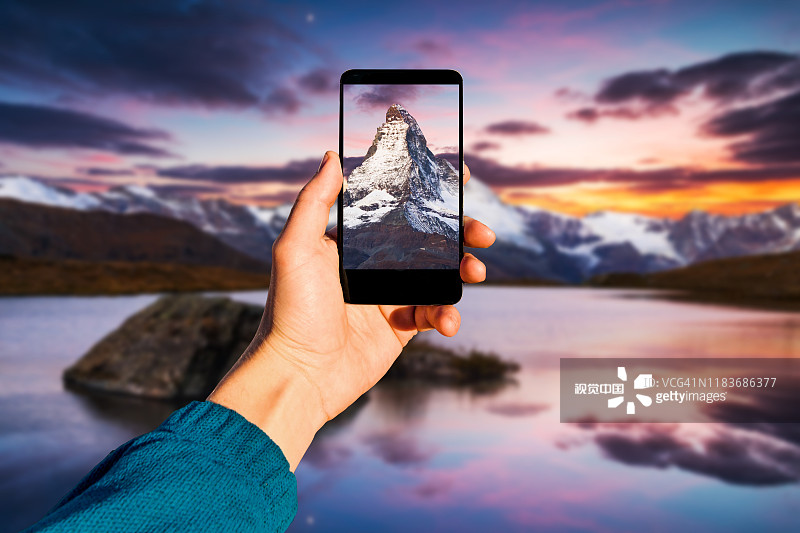taking photos: (207, 42, 518, 502)
